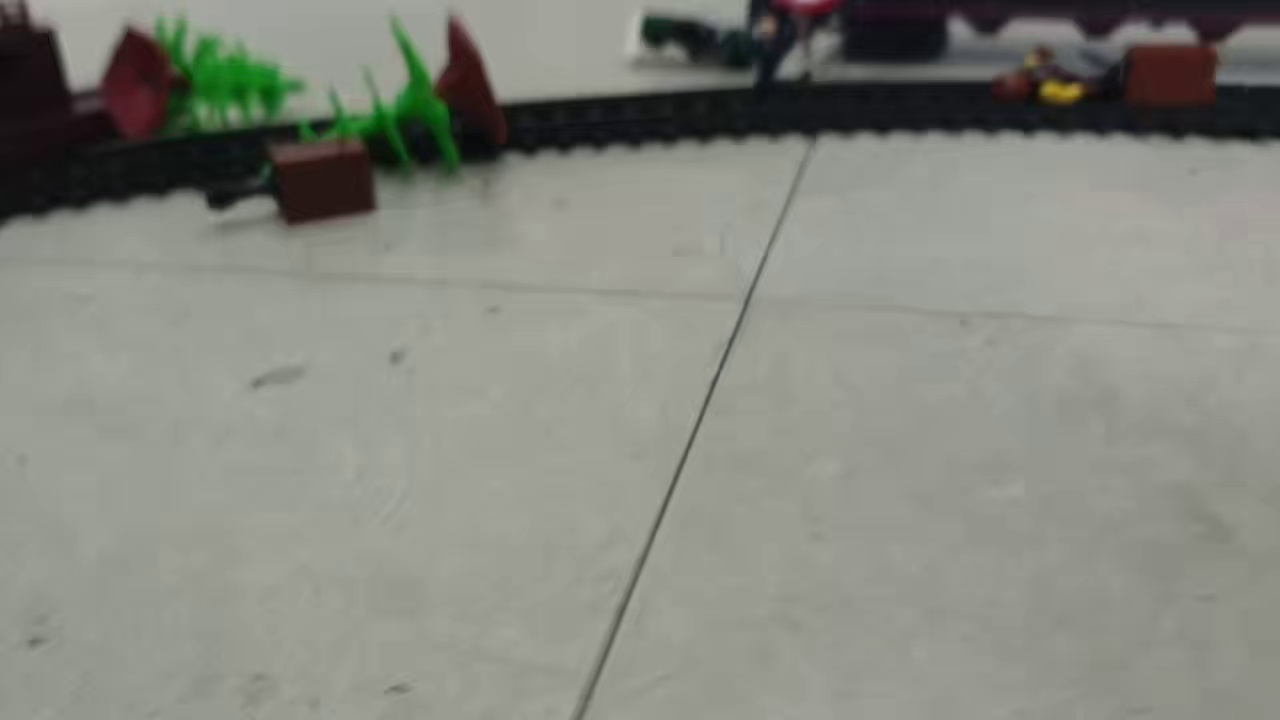box: (200, 138, 377, 227), (1121, 45, 1216, 116)
people: (625, 12, 770, 73), (991, 41, 1125, 107)
tree: (250, 13, 506, 181), (102, 10, 308, 143)
